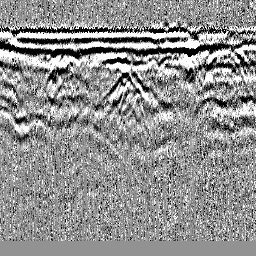cavity: (101, 69, 145, 100)
